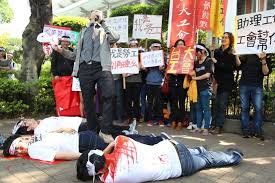10+: (1, 8, 275, 139)
down: (75, 132, 240, 180), (5, 126, 138, 160), (6, 109, 136, 131)
